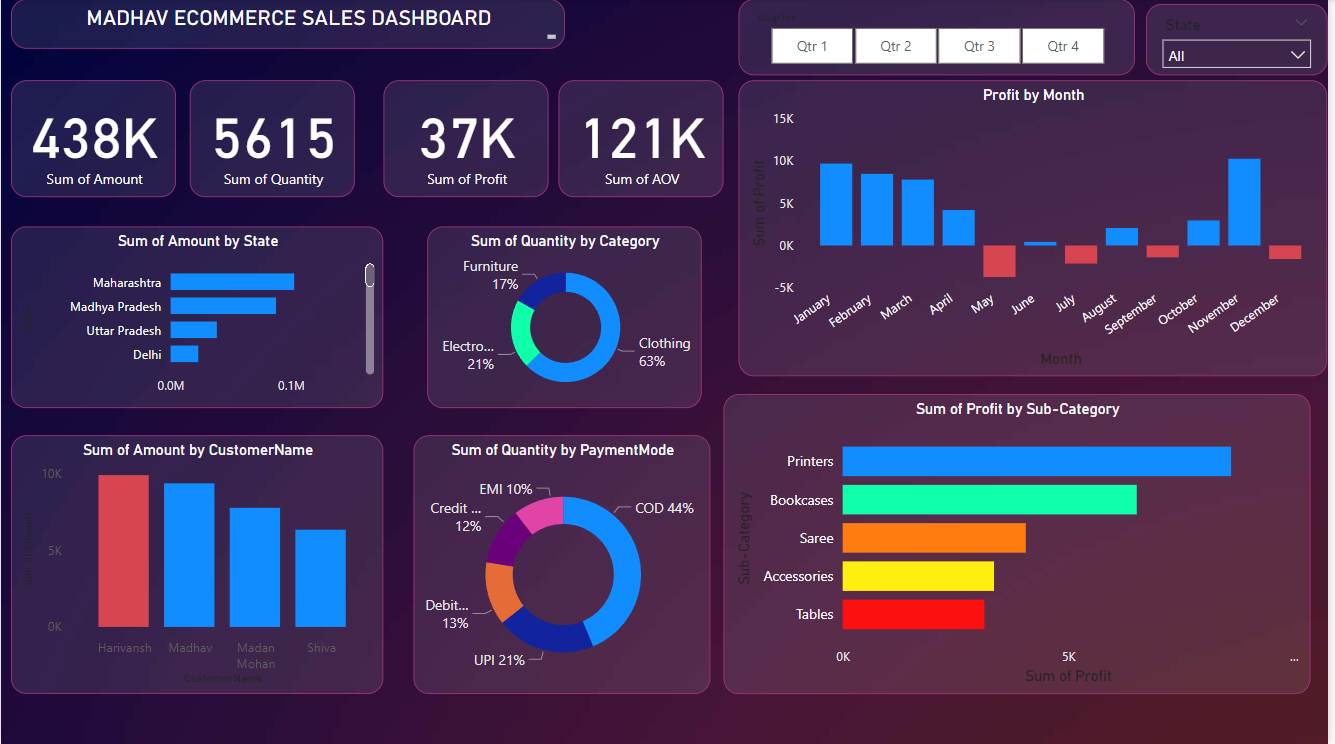

This screenshot's page, from the dashboard's own definition file:
{"tool":"powerbi","page":{"name":"Page 1","canvas":[1280,720],"ordinal":0},"visuals":[{"type":"textbox","title":"MADHAV ECOMMERCE SALES DASHBOARD","box":[9.6,0,534.7,48],"z":0},{"type":"columnChart","title":"Profit by Month","fields":{"Y":["Details.Profit"],"Category":["Orders.Order Date.Variation.Date Hierarchy.Month"]},"box":[711.6,78.4,568,285.8],"z":1000},{"type":"barChart","fields":{"Category":["Details.Sub-Category"],"Y":["Details.Profit"]},"box":[696.5,381.2,566.2,289.3],"z":1001},{"type":"donutChart","fields":{"Category":["Details.Category"],"Y":["Details.Quantity"]},"box":[411.3,219.4,264.6,175.5],"z":1002},{"type":"donutChart","fields":{"Y":["Details.Quantity"],"Category":["Details.PaymentMode"]},"box":[397.6,420.9,286.5,249.5],"z":1003},{"type":"card","fields":{"Values":["Details.Amount"]},"box":[9.6,78.1,159,112.4],"z":1004},{"type":"card","fields":{"Values":["Details.Profit"]},"box":[368.8,78.1,159,112.4],"z":1005},{"type":"card","fields":{"Values":["Details.Quantity"]},"box":[182.3,78.1,159,112.4],"z":1006},{"type":"card","fields":{"Values":["Details.AOV"]},"box":[537.5,78.1,159,112.4],"z":1007},{"type":"barChart","fields":{"Category":["Orders.State"],"Y":["Details.Amount"]},"box":[9.6,219.4,359.2,175.5],"z":1008},{"type":"columnChart","fields":{"Category":["Orders.CustomerName"],"Y":["Details.Amount"]},"box":[9.6,420.9,359.2,249.5],"z":1009},{"type":"slicer","fields":{"Values":["Orders.Order Date.Variation.Date Hierarchy.Quarter"]},"box":[711.6,0,382.3,73.6],"z":1010},{"type":"slicer","fields":{"Values":["Orders.State"]},"box":[1104.7,4.8,174.9,68.7],"z":1011}]}

Visuals, with their boxes in screenshot pixels (x1, y1, x2, y2), scaled from the page's 1280x720 canvas onto the 1335x744 screenshot:
"MADHAV ECOMMERCE SALES DASHBOARD" textbox: bbox=(10, 0, 568, 50)
"Profit by Month" columnChart: bbox=(742, 81, 1334, 376)
barChart - Details.Sub-Category x Details.Profit: bbox=(726, 394, 1317, 693)
donutChart - Details.Category x Details.Quantity: bbox=(429, 227, 705, 408)
donutChart - Details.Quantity x Details.PaymentMode: bbox=(415, 435, 713, 693)
card - Details.Amount: bbox=(10, 81, 176, 197)
card - Details.Profit: bbox=(385, 81, 550, 197)
card - Details.Quantity: bbox=(190, 81, 356, 197)
card - Details.AOV: bbox=(561, 81, 726, 197)
barChart - Orders.State x Details.Amount: bbox=(10, 227, 385, 408)
columnChart - Orders.CustomerName x Details.Amount: bbox=(10, 435, 385, 693)
slicer - Orders.Order Date.Variation.Date Hierarchy.Quarter: bbox=(742, 0, 1141, 76)
slicer - Orders.State: bbox=(1152, 5, 1334, 76)
